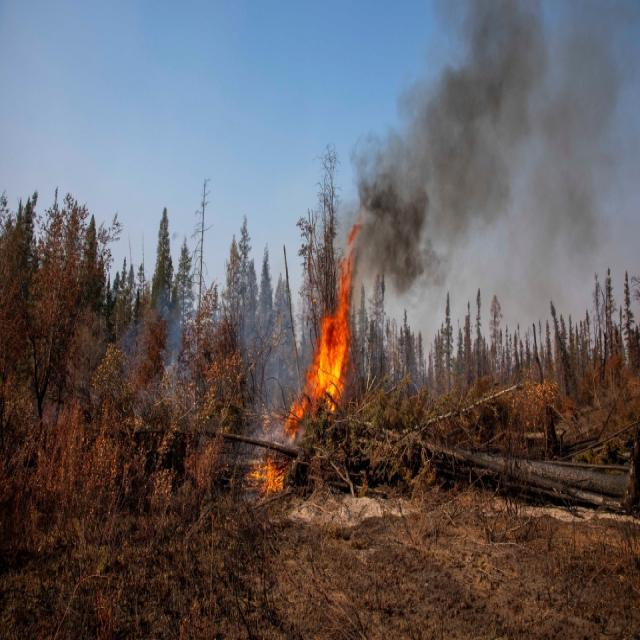Fire: (284, 219, 362, 438), (246, 448, 284, 499)
Smoke: (352, 1, 628, 332), (120, 260, 286, 404)
